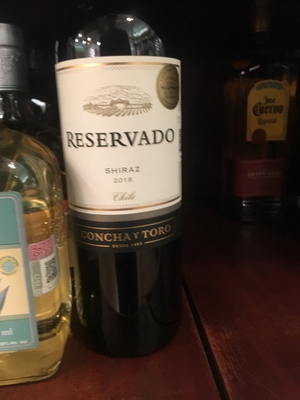reservado shiraz: (47, 7, 188, 356)
